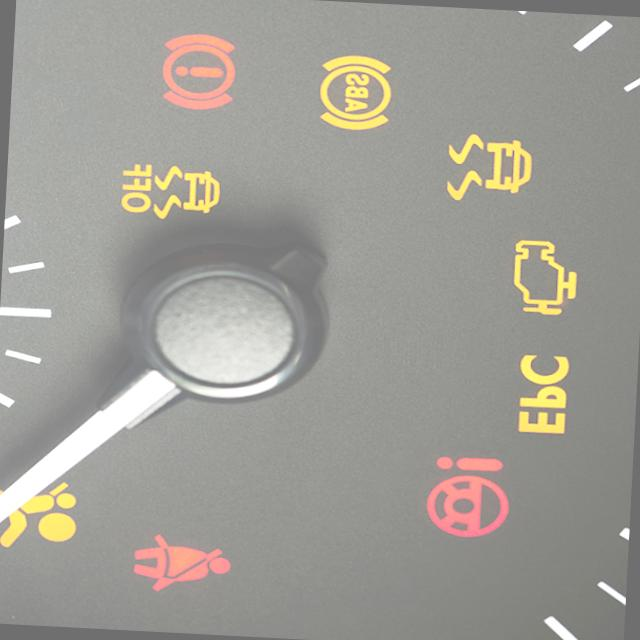kontrolka: (415, 452, 531, 552), (300, 37, 404, 144), (102, 146, 230, 230), (501, 338, 587, 456), (152, 26, 252, 114), (0, 476, 95, 564), (502, 234, 592, 326), (442, 127, 540, 204)
